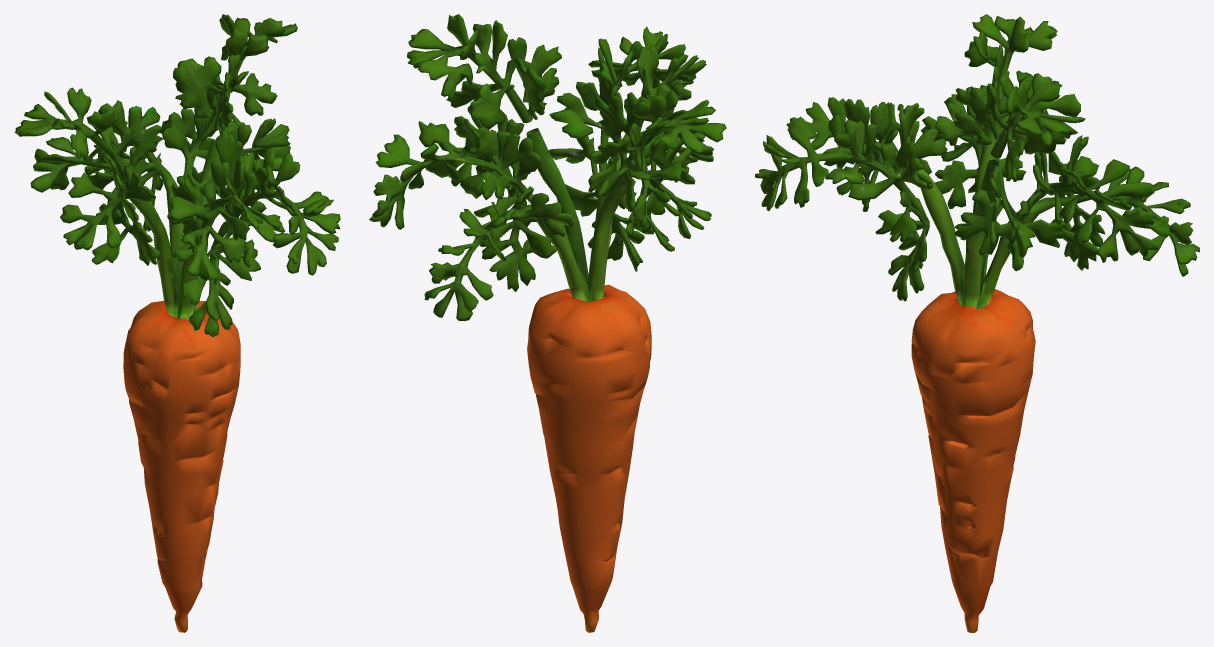
File: carrot.glb
3 renders of one model, left to right at view 1: azimuth 30°, elevation 25°; view 2: azimuth 150°, elevation 25°; view 3: azimuth 270°, elevation 25°, orthographic. The views are drawn at different scales.
Visible parts, largest first — view 1: tripo_node_2e169af2-22c1-4f38-99f3-80b326fb7e33; view 2: tripo_node_2e169af2-22c1-4f38-99f3-80b326fb7e33; view 3: tripo_node_2e169af2-22c1-4f38-99f3-80b326fb7e33.
Part boxes in pixels (x1,y1,x2,y2): tripo_node_2e169af2-22c1-4f38-99f3-80b326fb7e33: [14, 14, 340, 632]; tripo_node_2e169af2-22c1-4f38-99f3-80b326fb7e33: [369, 14, 726, 632]; tripo_node_2e169af2-22c1-4f38-99f3-80b326fb7e33: [755, 14, 1199, 632].
Size of the model in its own units: 0.5205 by 1 by 0.6732.
1 material, 1 textured.
